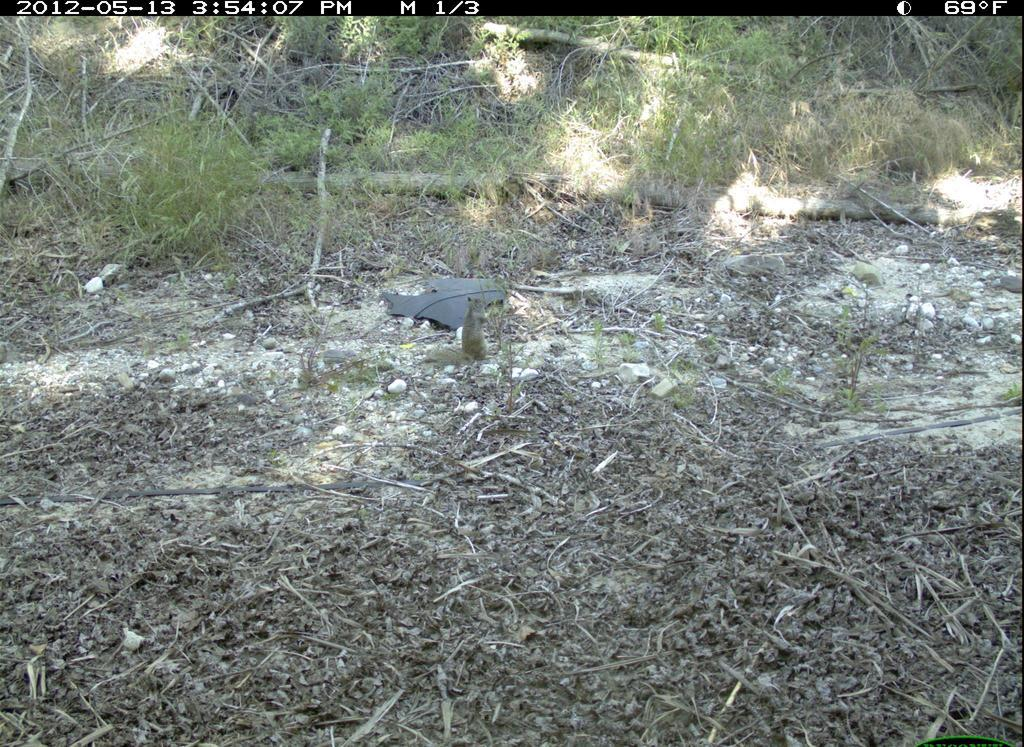squirrel: (406, 287, 510, 391)
